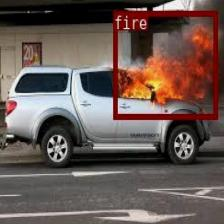fire: (113, 10, 217, 118)
